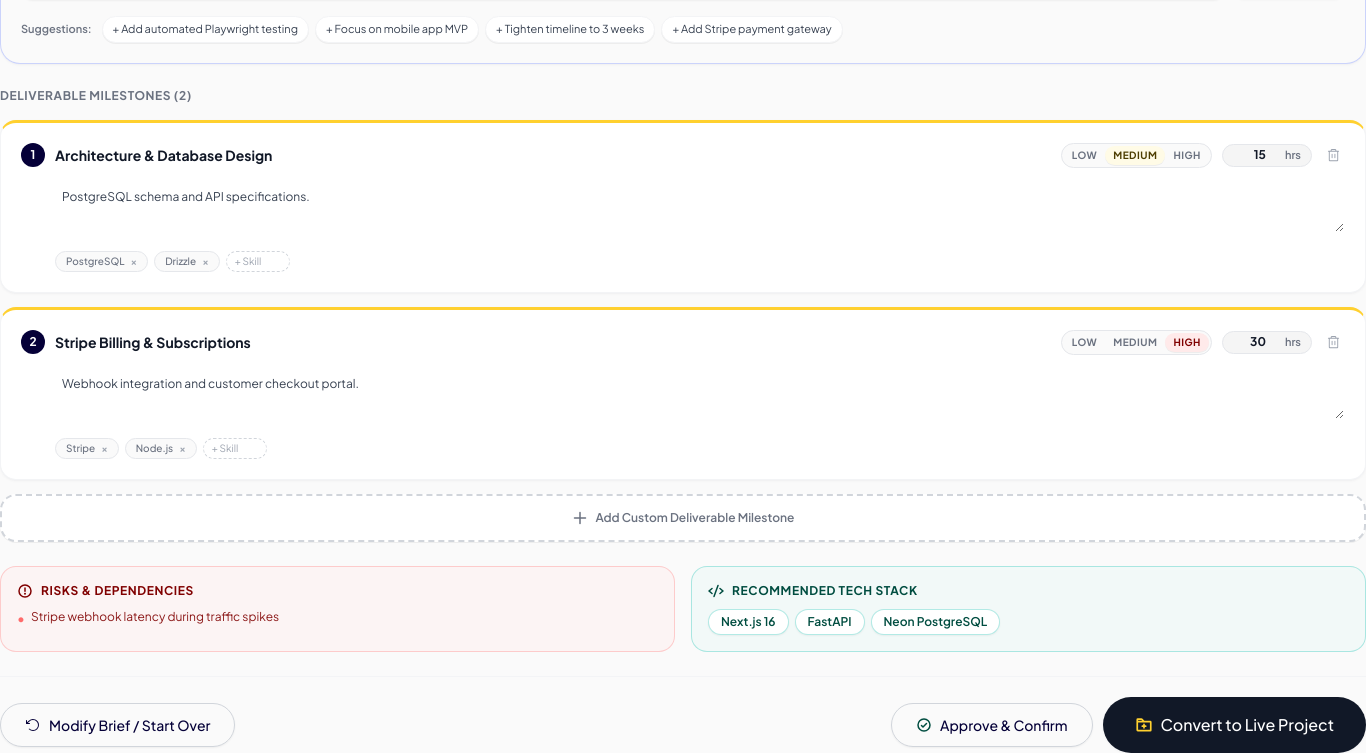
ScopeReviewDraft › allows adding a custom deliverable and updates total hours live
(page scrolled)
Click the button "Add Custom Deliverable Milestone".
click(683, 518)  # box top-left (0, 494), bottom-right (1365, 542)
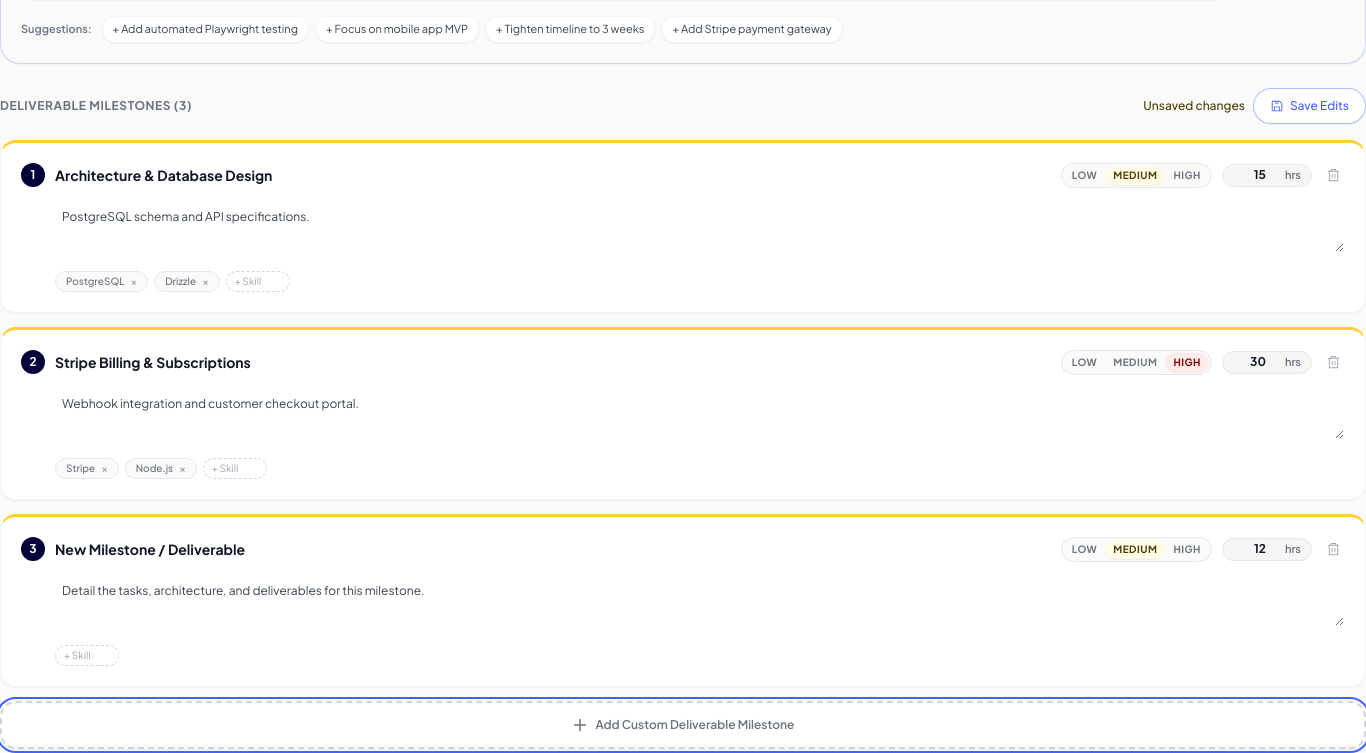
Now the text "Unsaved changes" is shown, box top-left (1143, 98), bottom-right (1245, 114)
